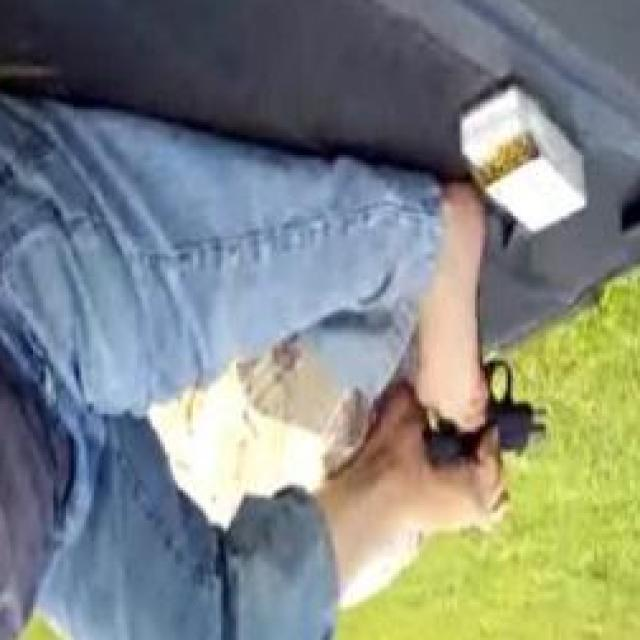pistol: (422, 287, 546, 472)
